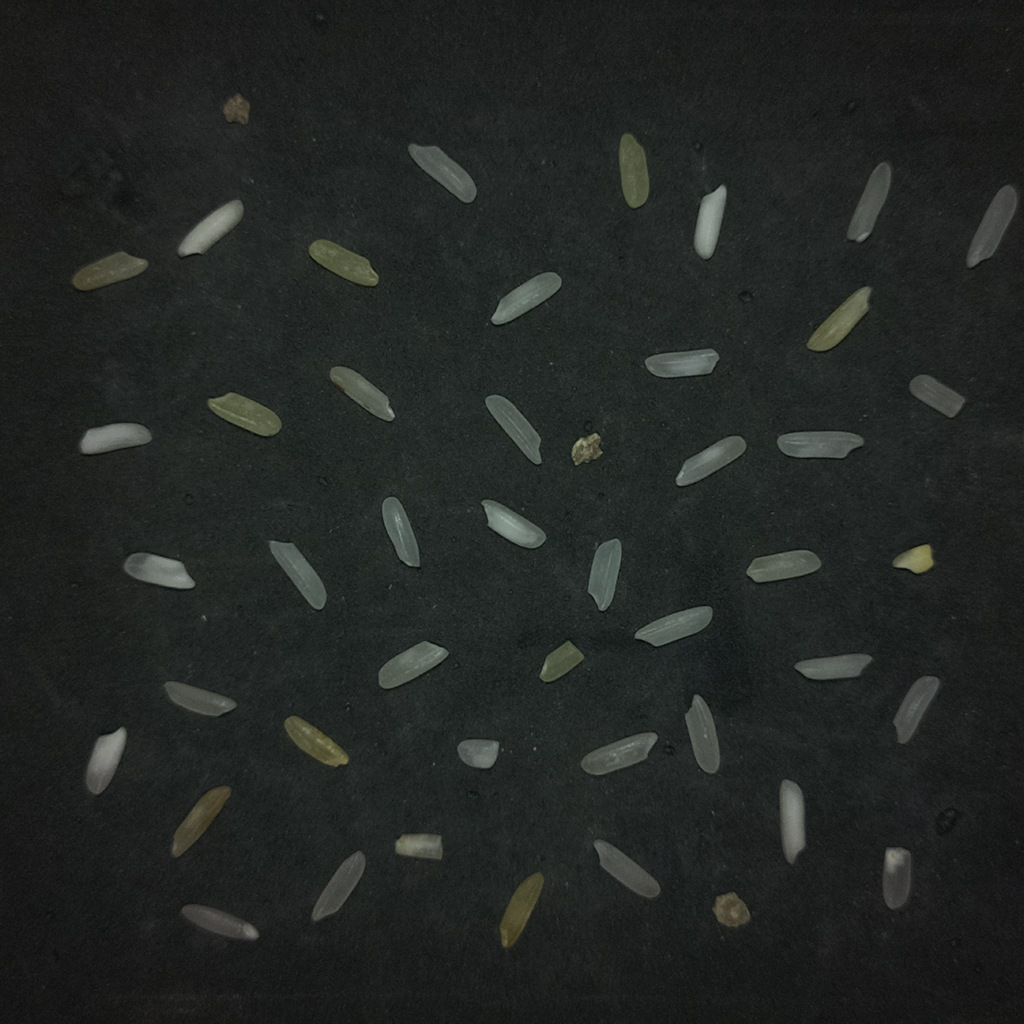broken: (408, 143, 476, 203), (593, 839, 660, 898), (284, 715, 349, 766), (581, 732, 657, 775), (909, 376, 964, 417), (882, 847, 912, 908), (539, 641, 583, 681), (713, 892, 750, 927), (457, 739, 499, 768), (394, 834, 442, 859)
chalky: (177, 199, 243, 256), (481, 499, 545, 548), (85, 727, 126, 794), (123, 552, 195, 589), (694, 184, 726, 259), (78, 422, 151, 454), (779, 779, 805, 864)
damaged: (171, 786, 230, 857)
discolored: (807, 287, 871, 351), (69, 249, 151, 292), (499, 872, 543, 948), (309, 239, 379, 286), (208, 392, 281, 436), (619, 133, 649, 208), (892, 544, 935, 574)
foreign: (570, 433, 602, 465), (222, 93, 250, 124)
whole: (966, 185, 1018, 268), (268, 540, 326, 609), (311, 851, 366, 922), (485, 394, 540, 463), (491, 272, 562, 325), (847, 162, 892, 243), (329, 366, 394, 421), (675, 435, 746, 485), (378, 641, 448, 688), (893, 676, 940, 743), (634, 606, 712, 646), (181, 904, 258, 940), (381, 496, 420, 567), (685, 695, 720, 773), (164, 681, 236, 716), (746, 549, 820, 582), (588, 539, 621, 611), (777, 431, 863, 458), (645, 348, 718, 377), (794, 653, 872, 680)
